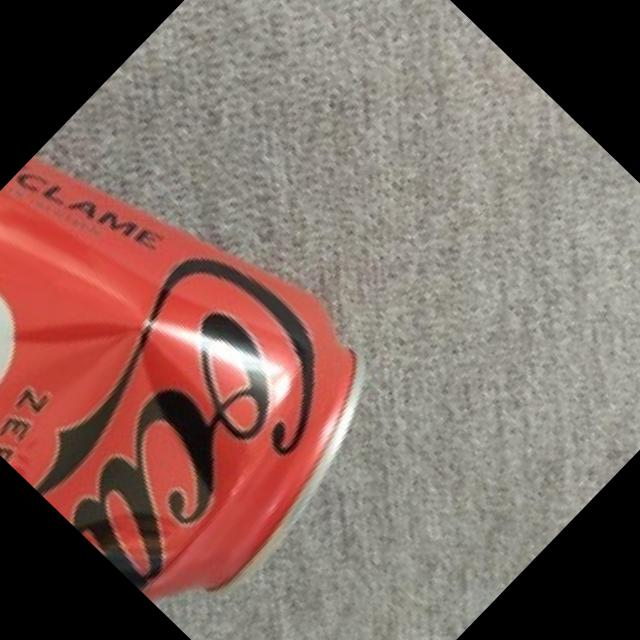Kaleng: (0, 86, 418, 633)
